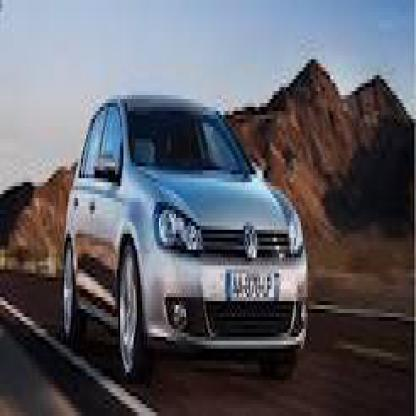Vehicle: (56, 83, 313, 408)
